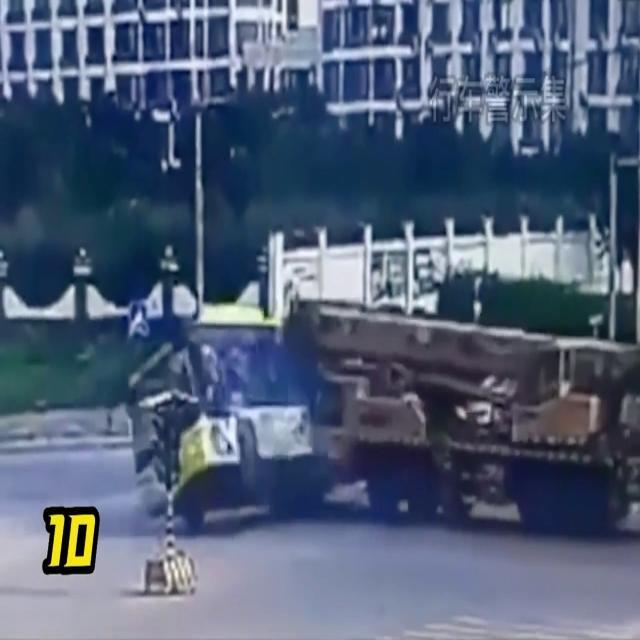accident: (124, 294, 640, 536)
